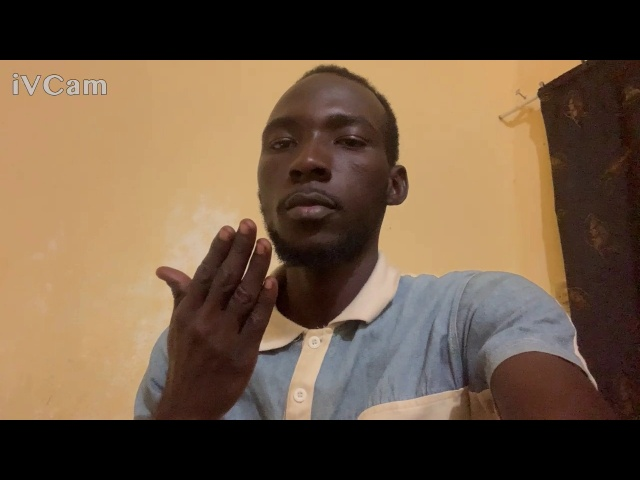merci: (152, 211, 295, 417)
